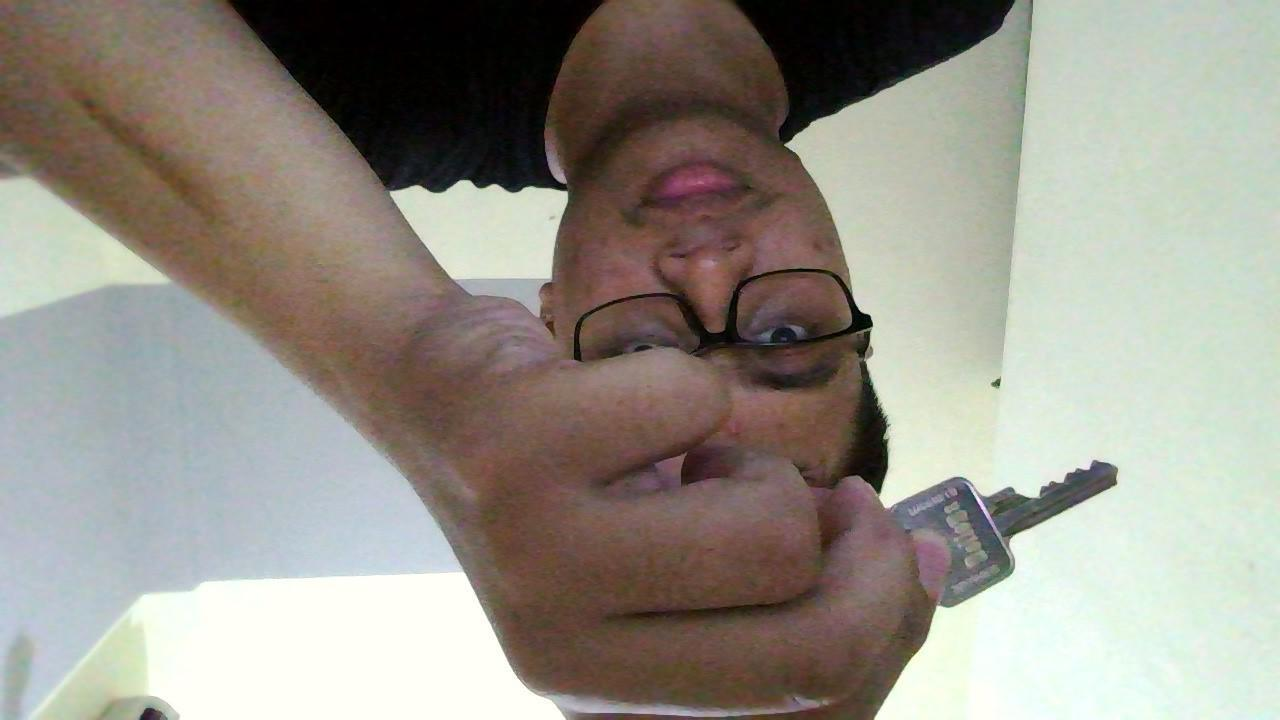keys: (877, 444, 1127, 614)
